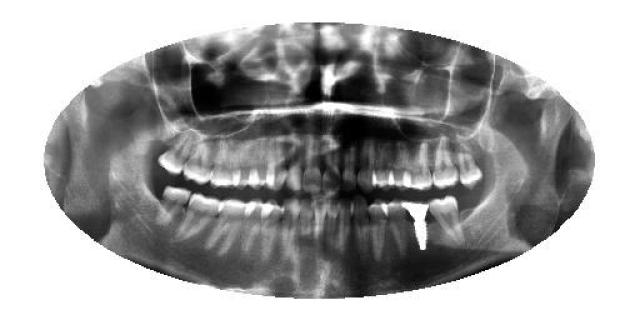Implant: (402, 199, 432, 250)
